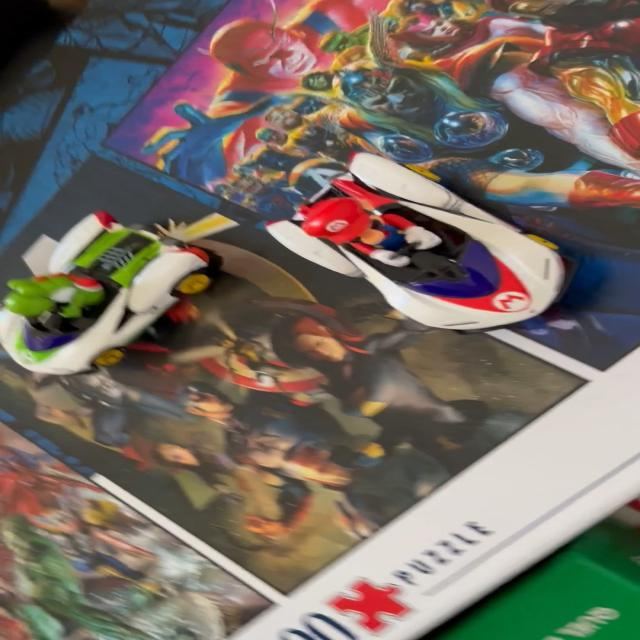mario: (264, 158, 590, 339)
yoshi: (3, 179, 239, 399)
